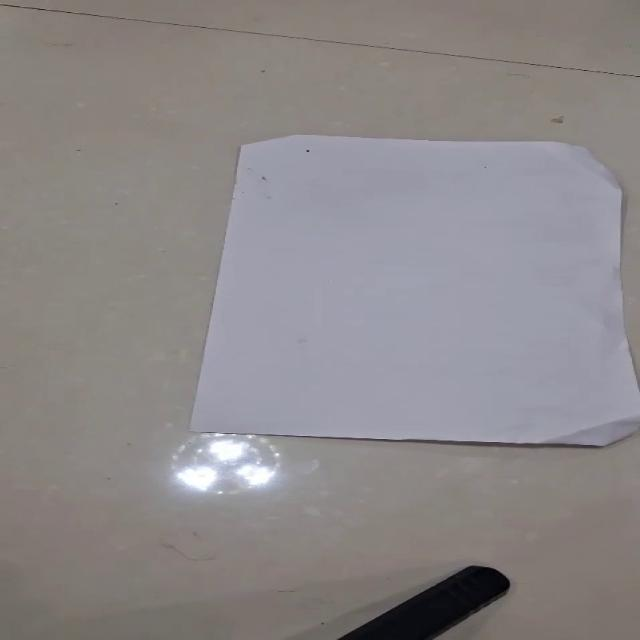paper: (186, 132, 637, 446)
